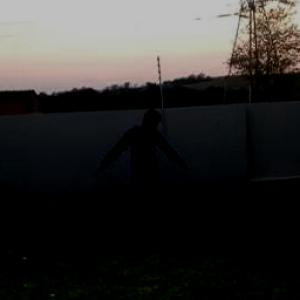land: (89, 103, 196, 251)
